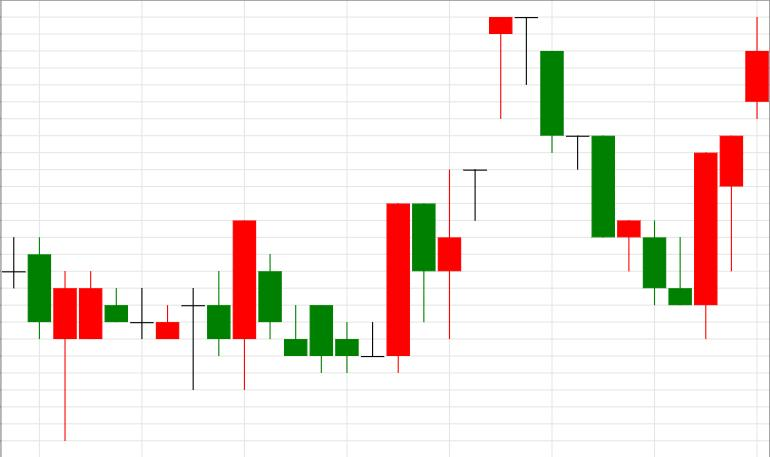bullish_engulfing_rise: (540, 51, 718, 339), (259, 204, 409, 374)
